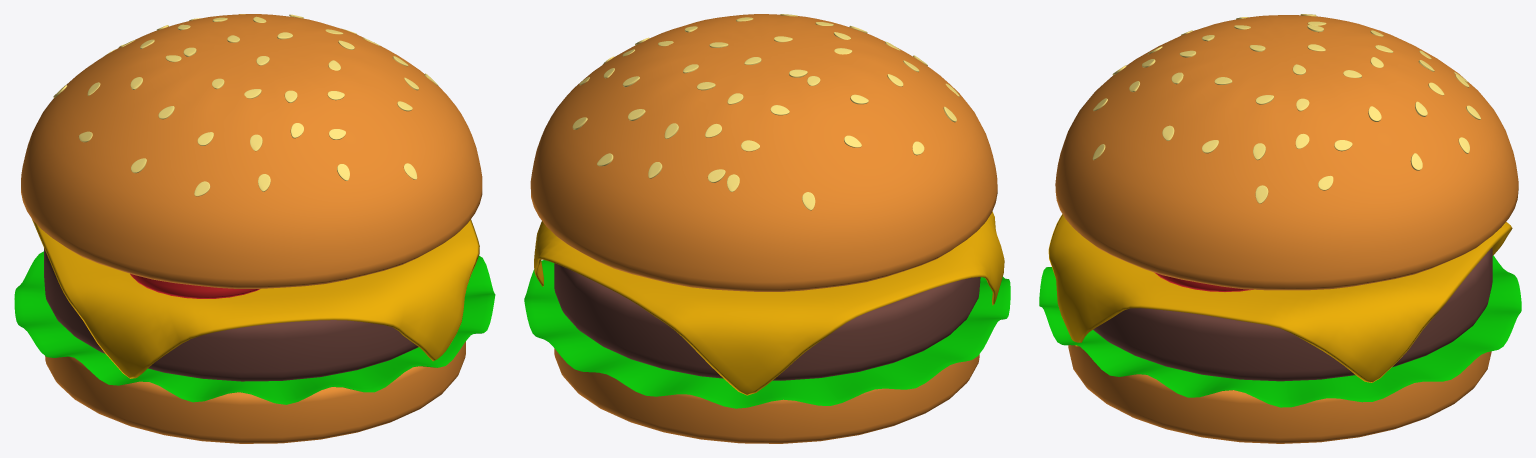
The model's file is hamburger.fbx.
3 views of the same model, side by side, from view 1: azimuth 30°, elevation 25°; view 2: azimuth 150°, elevation 25°; view 3: azimuth 270°, elevation 25° (orthographic).
Parts seen in each view (by area): view 1: bread_top, cheese, bread_bottom, meat, lettuce, tomatoes; view 2: bread_top, cheese, meat, lettuce, bread_bottom; view 3: bread_top, cheese, bread_bottom, meat, lettuce, tomatoes.
Part boxes in pixels (x1=…): bread_top: x1=21, y1=14, x2=482, y2=288; cheese: x1=32, y1=219, x2=479, y2=378; bread_bottom: x1=45, y1=341, x2=465, y2=443; meat: x1=44, y1=248, x2=418, y2=381; lettuce: x1=14, y1=251, x2=495, y2=404; tomatoes: x1=130, y1=273, x2=259, y2=298; bread_top: x1=530, y1=14, x2=997, y2=291; cheese: x1=534, y1=211, x2=1004, y2=395; meat: x1=554, y1=263, x2=980, y2=380; lettuce: x1=524, y1=260, x2=1010, y2=408; bread_bottom: x1=554, y1=348, x2=979, y2=443; bread_top: x1=1055, y1=15, x2=1518, y2=290; cheese: x1=1048, y1=214, x2=1512, y2=382; bread_bottom: x1=1068, y1=345, x2=1491, y2=443; meat: x1=1093, y1=248, x2=1492, y2=381; lettuce: x1=1039, y1=255, x2=1521, y2=407; tomatoes: x1=1154, y1=272, x2=1253, y2=291.
Bounding box in the file's own units: 114 × 80.31 × 114.
